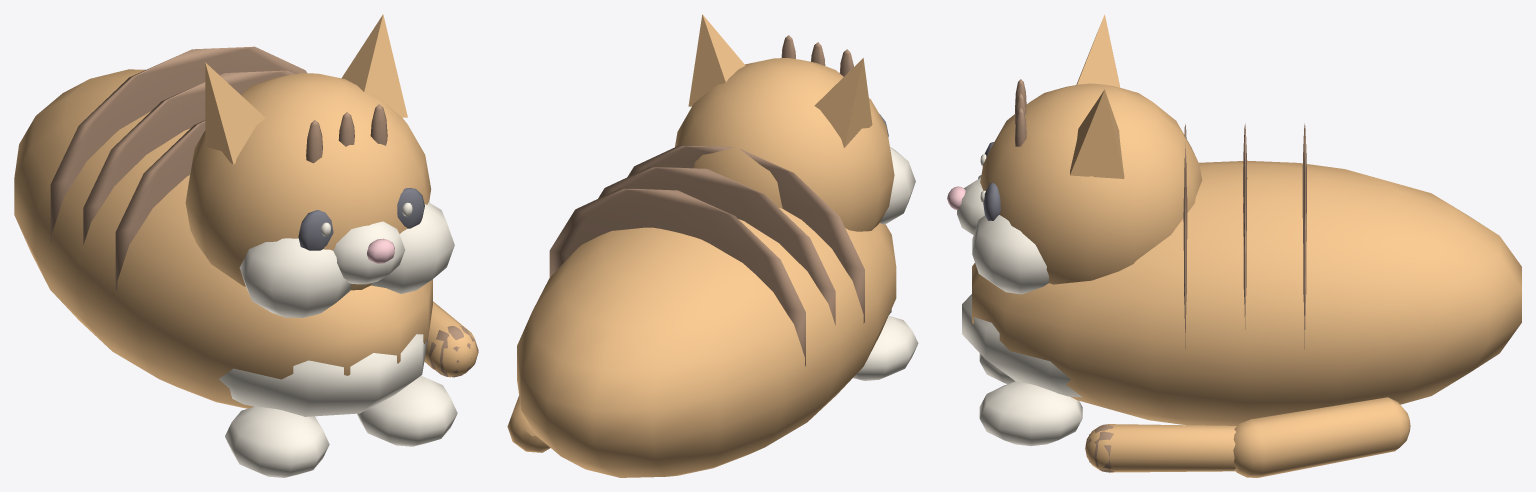
The model's file is companion-animals-and-pet-home-cat-loaf-d254a539__20545.glb.
The picture shows the model from 3 angles, left to right: view 1: azimuth 30°, elevation 25°; view 2: azimuth 150°, elevation 25°; view 3: azimuth 270°, elevation 25°; orthographic projection. The views are drawn at different scales.
Parts seen in each view (by area): view 1: cat-loaf; view 2: cat-loaf; view 3: cat-loaf.
Part boxes in pixels (x1,y1,x2,y2): cat-loaf: (14, 14, 478, 477); cat-loaf: (507, 14, 918, 477); cat-loaf: (947, 14, 1521, 477).
Bounding box in the file's own units: 0.2738 × 0.3065 × 0.4451.
